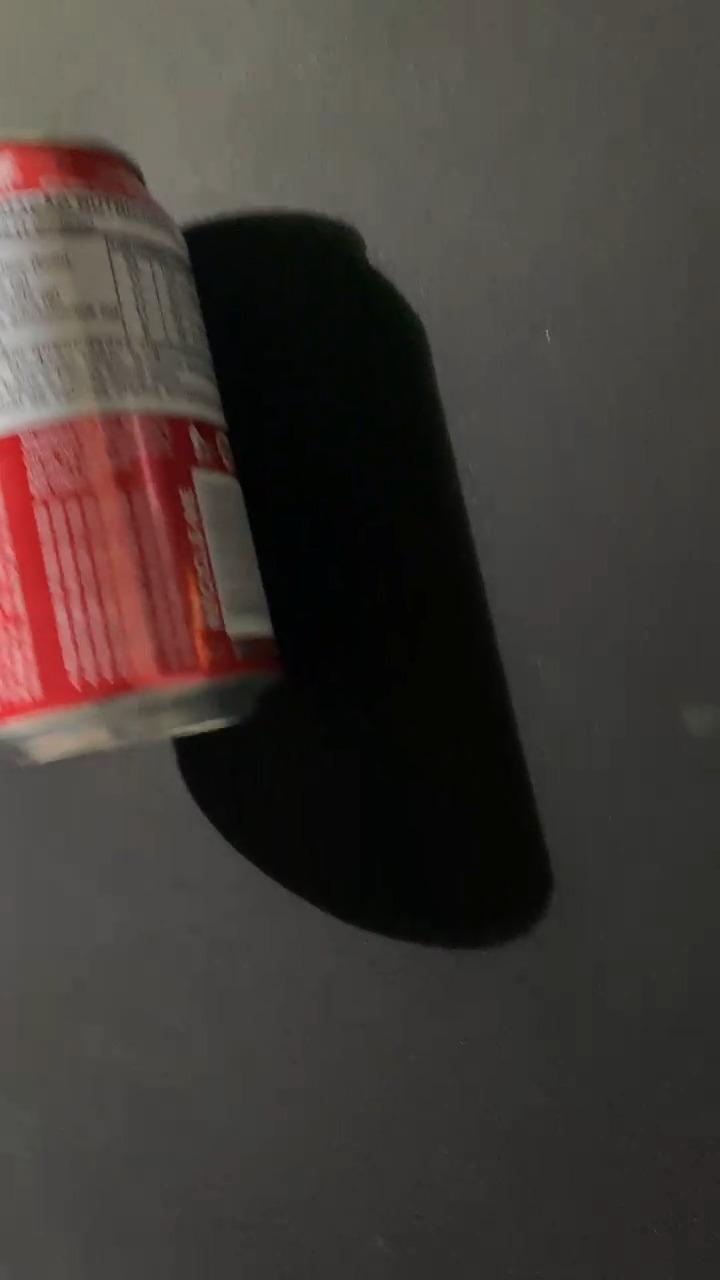coke: (2, 148, 282, 758)
